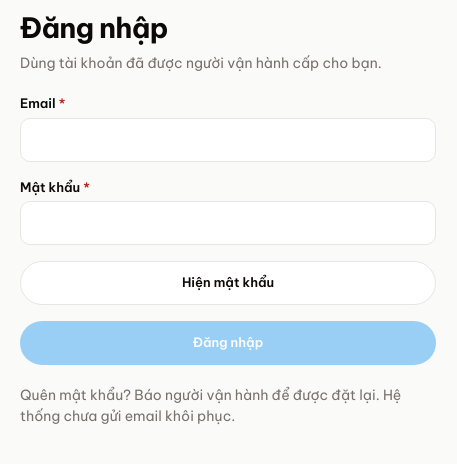
Test: TC-WEB-025 — password sign-in › keeps credentials visible after a generic invalid-credential rejection
Type "khong-co@example.com" into the field labelled "Email *" at (228, 140), box [20,118,436,162]
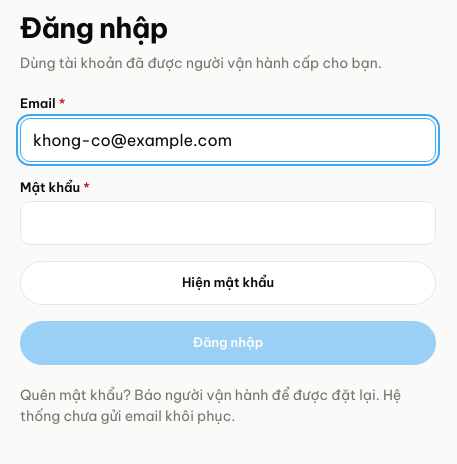
Type "wrong" into the password field labelled "Mật khẩu *" at (228, 223), box [20,201,436,245]
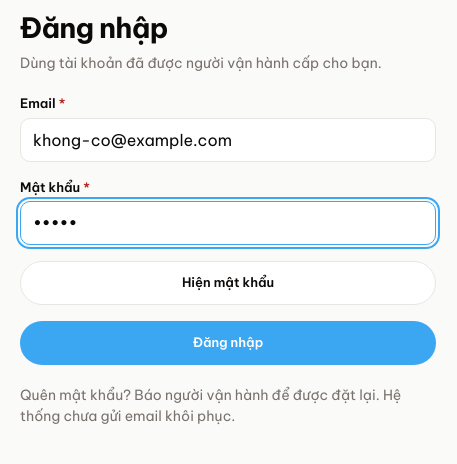
Click the button "Đăng nhập" at (228, 343), box [20,321,436,365]
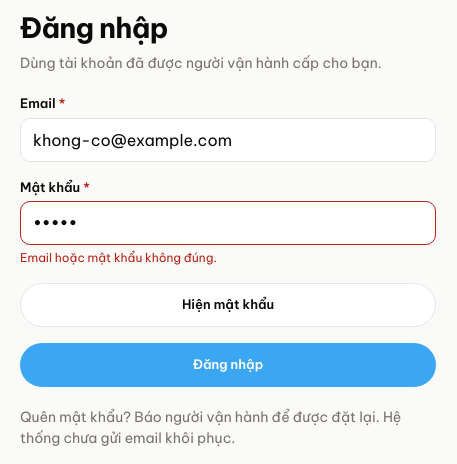
Now the message shows "Email hoặc mật khẩu không đúng", box [20,250,217,265]
